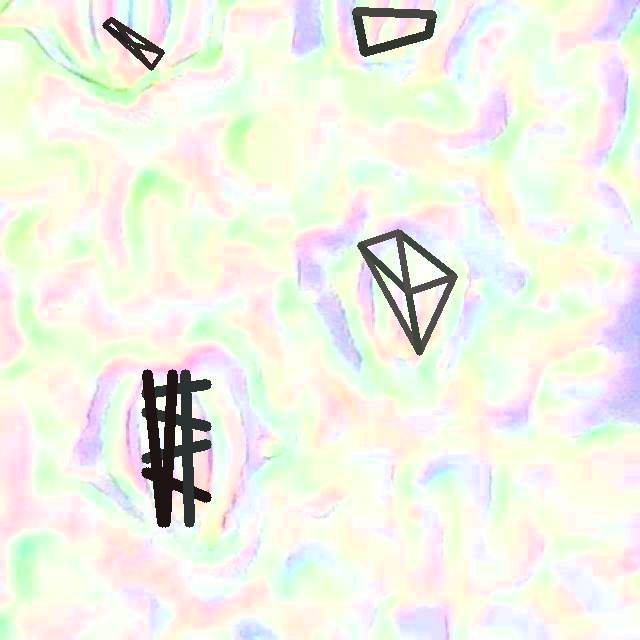close: (358, 230, 457, 355), (353, 10, 432, 56)
open: (142, 369, 210, 526), (102, 17, 164, 70)
